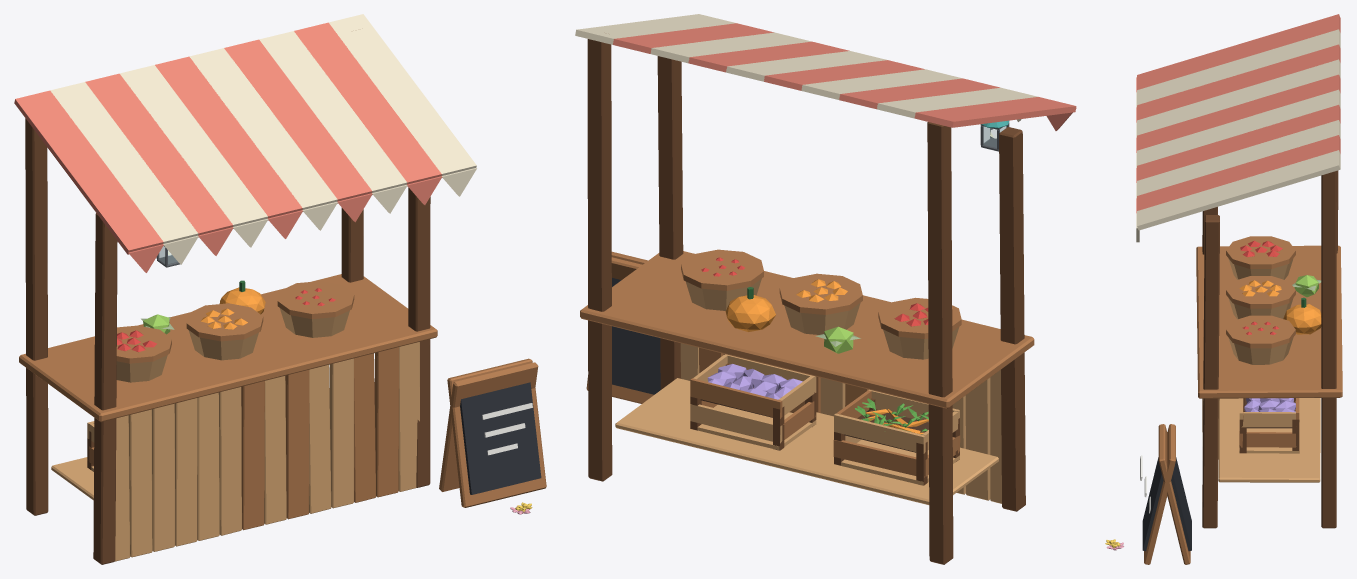
The model's file is market_stall.glb.
3 views of the same model, side by side, from view 1: azimuth 30°, elevation 25°; view 2: azimuth 150°, elevation 25°; view 3: azimuth 270°, elevation 25° (orthographic). The views are drawn at different scales.
Parts seen in each view (by area): view 1: Market Stall; view 2: Market Stall; view 3: Market Stall.
Boxes of the visible parts, bbox=[...] form: Market Stall: bbox=[14, 14, 546, 564]; Market Stall: bbox=[575, 14, 1076, 564]; Market Stall: bbox=[1105, 14, 1342, 564].
Size of the model in its own units: 2.55 by 2.4 by 1.4.
3 materials, 1 textured.
